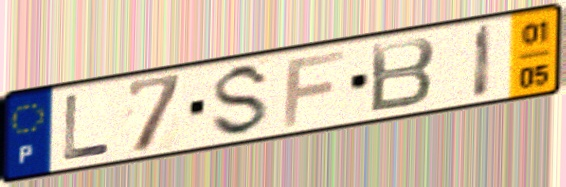7: (124, 70, 185, 157)
B: (367, 34, 438, 116)
F: (280, 47, 348, 130)
I: (470, 21, 496, 102)
L: (61, 92, 114, 163)
S: (207, 60, 275, 140)
